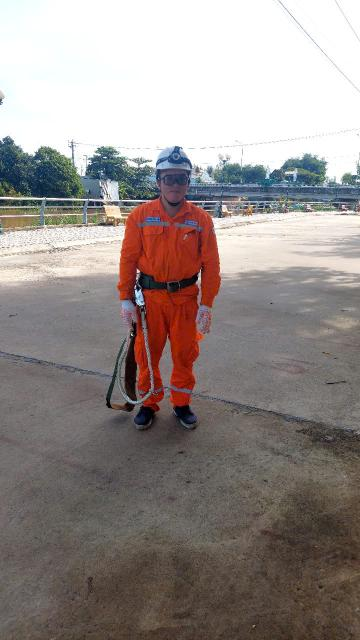gloves: (108, 300, 147, 338), (189, 303, 216, 344)
harness: (134, 266, 210, 298)
shoes: (148, 143, 199, 176), (173, 396, 203, 430), (133, 399, 160, 436)
